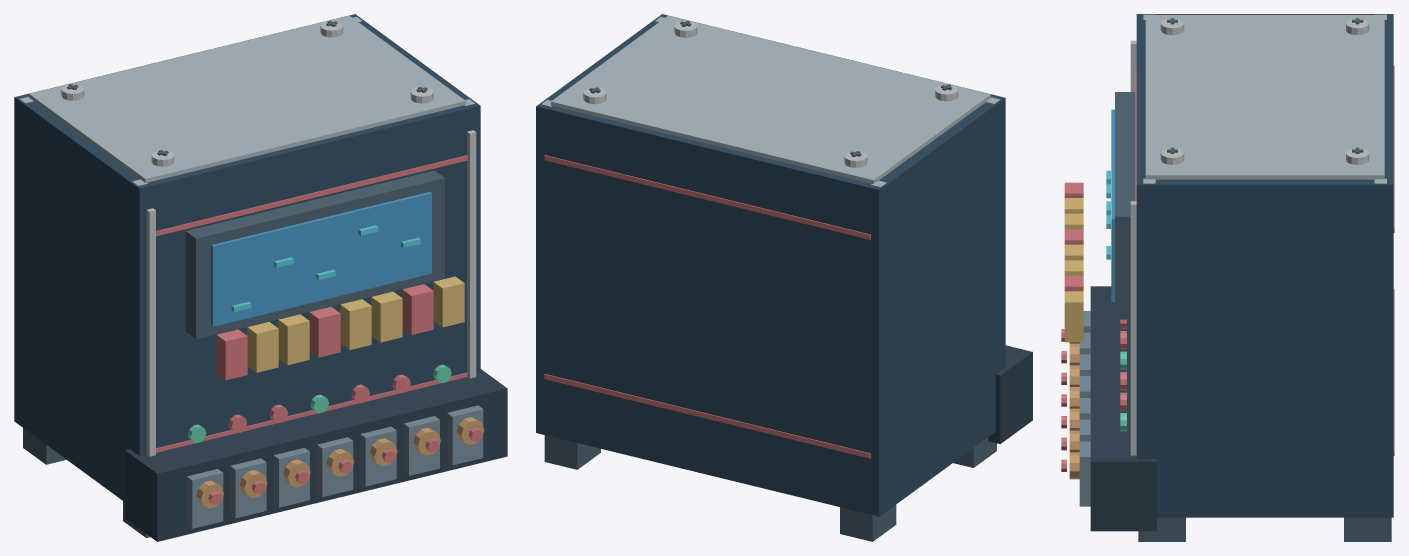
Rendered from 40_L75_BeamlineSafetyInterlockRelay.glb.
3 views of the same model, side by side, from view 1: azimuth 30°, elevation 25°; view 2: azimuth 150°, elevation 25°; view 3: azimuth 270°, elevation 25° (orthographic). The views are drawn at different scales.
Visible parts, largest first — view 1: BeamlineSafetyInterlockRelay_Node_0000, BeamlineSafetyInterlockRelay_Node_0007, BeamlineSafetyInterlockRelay_Node_0042, BeamlineSafetyInterlockRelay_Node_0025, BeamlineSafetyInterlockRelay_Node_0024, BeamlineSafetyInterlockRelay_Node_0006, BeamlineSafetyInterlockRelay_Node_0005, BeamlineSafetyInterlockRelay_Node_0023, BeamlineSafetyInterlockRelay_Node_0043, BeamlineSafetyInterlockRelay_Node_0064, BeamlineSafetyInterlockRelay_Node_0069, BeamlineSafetyInterlockRelay_Node_0071 (+13 smaller); view 2: BeamlineSafetyInterlockRelay_Node_0000, BeamlineSafetyInterlockRelay_Node_0007, BeamlineSafetyInterlockRelay_Node_0042, BeamlineSafetyInterlockRelay_Node_0022, BeamlineSafetyInterlockRelay_Node_0020, BeamlineSafetyInterlockRelay_Node_0038, BeamlineSafetyInterlockRelay_Node_0040, BeamlineSafetyInterlockRelay_Node_0039; view 3: BeamlineSafetyInterlockRelay_Node_0000, BeamlineSafetyInterlockRelay_Node_0007, BeamlineSafetyInterlockRelay_Node_0042, BeamlineSafetyInterlockRelay_Node_0024, BeamlineSafetyInterlockRelay_Node_0006, BeamlineSafetyInterlockRelay_Node_0040, BeamlineSafetyInterlockRelay_Node_0071, BeamlineSafetyInterlockRelay_Node_0041, BeamlineSafetyInterlockRelay_Node_0061, BeamlineSafetyInterlockRelay_Node_0025.
Boxes of the visible parts, left/top/right/bottom form: BeamlineSafetyInterlockRelay_Node_0000: left=14, top=14, right=480, bottom=502; BeamlineSafetyInterlockRelay_Node_0007: left=29, top=15, right=465, bottom=182; BeamlineSafetyInterlockRelay_Node_0042: left=125, top=369, right=507, bottom=541; BeamlineSafetyInterlockRelay_Node_0025: left=211, top=192, right=431, bottom=326; BeamlineSafetyInterlockRelay_Node_0024: left=185, top=170, right=444, bottom=339; BeamlineSafetyInterlockRelay_Node_0006: left=467, top=130, right=476, bottom=378; BeamlineSafetyInterlockRelay_Node_0005: left=146, top=208, right=155, bottom=456; BeamlineSafetyInterlockRelay_Node_0023: left=156, top=155, right=467, bottom=236; BeamlineSafetyInterlockRelay_Node_0043: left=186, top=469, right=223, bottom=528; BeamlineSafetyInterlockRelay_Node_0064: left=216, top=329, right=247, bottom=380; BeamlineSafetyInterlockRelay_Node_0069: left=371, top=291, right=402, bottom=342; BeamlineSafetyInterlockRelay_Node_0071: left=433, top=276, right=464, bottom=327; BeamlineSafetyInterlockRelay_Node_0000: left=536, top=14, right=1005, bottom=516; BeamlineSafetyInterlockRelay_Node_0007: left=551, top=15, right=990, bottom=183; BeamlineSafetyInterlockRelay_Node_0042: left=988, top=345, right=1032, bottom=444; BeamlineSafetyInterlockRelay_Node_0022: left=544, top=155, right=870, bottom=239; BeamlineSafetyInterlockRelay_Node_0020: left=544, top=374, right=870, bottom=458; BeamlineSafetyInterlockRelay_Node_0038: left=840, top=505, right=896, bottom=541; BeamlineSafetyInterlockRelay_Node_0040: left=544, top=435, right=600, bottom=469; BeamlineSafetyInterlockRelay_Node_0039: left=953, top=437, right=996, bottom=467; BeamlineSafetyInterlockRelay_Node_0000: left=1136, top=14, right=1393, bottom=517; BeamlineSafetyInterlockRelay_Node_0007: left=1145, top=15, right=1384, bottom=179; BeamlineSafetyInterlockRelay_Node_0042: left=1090, top=286, right=1156, bottom=531; BeamlineSafetyInterlockRelay_Node_0024: left=1115, top=92, right=1135, bottom=319; BeamlineSafetyInterlockRelay_Node_0006: left=1130, top=201, right=1136, bottom=455; BeamlineSafetyInterlockRelay_Node_0040: left=1344, top=517, right=1391, bottom=541; BeamlineSafetyInterlockRelay_Node_0071: left=1064, top=291, right=1083, bottom=342; BeamlineSafetyInterlockRelay_Node_0041: left=1138, top=517, right=1185, bottom=541; BeamlineSafetyInterlockRelay_Node_0061: left=1079, top=441, right=1090, bottom=506; BeamlineSafetyInterlockRelay_Node_0025: left=1111, top=109, right=1114, bottom=301.
Size of the model in its own units: 1.13 by 1.13 by 0.908.
